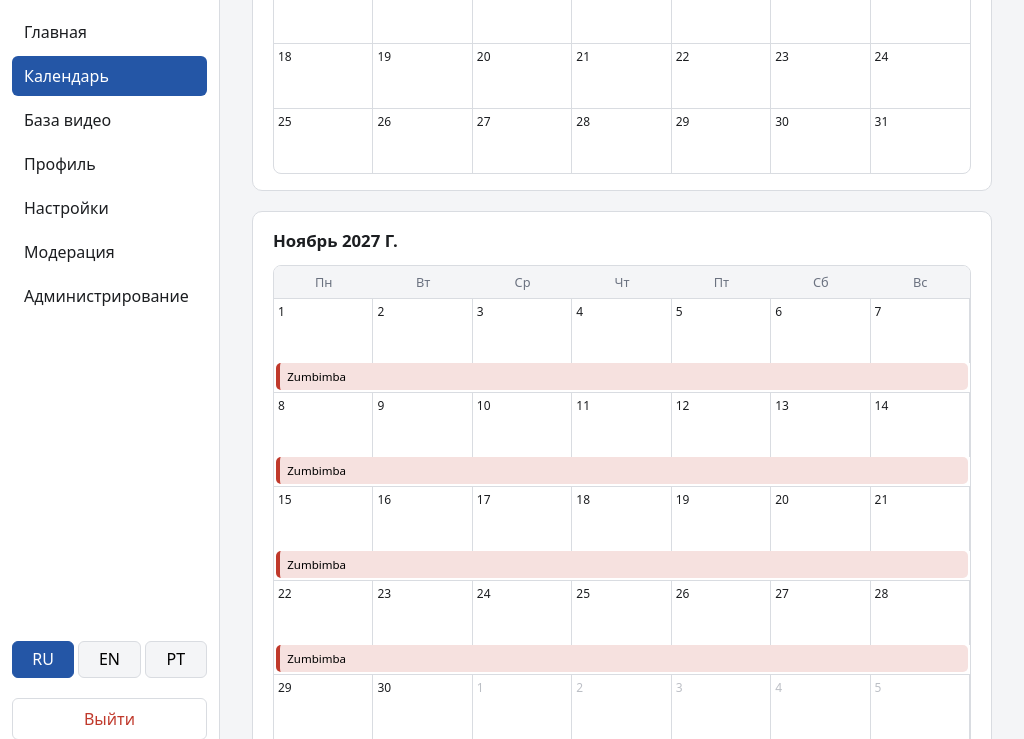
Test: Calendar page › shows the guest list at the top of the event popup
The image size is (1024, 739).
(page scrolled)
Click the 1st button "Zumbimba" at (317, 376), box [276,363,968,390]
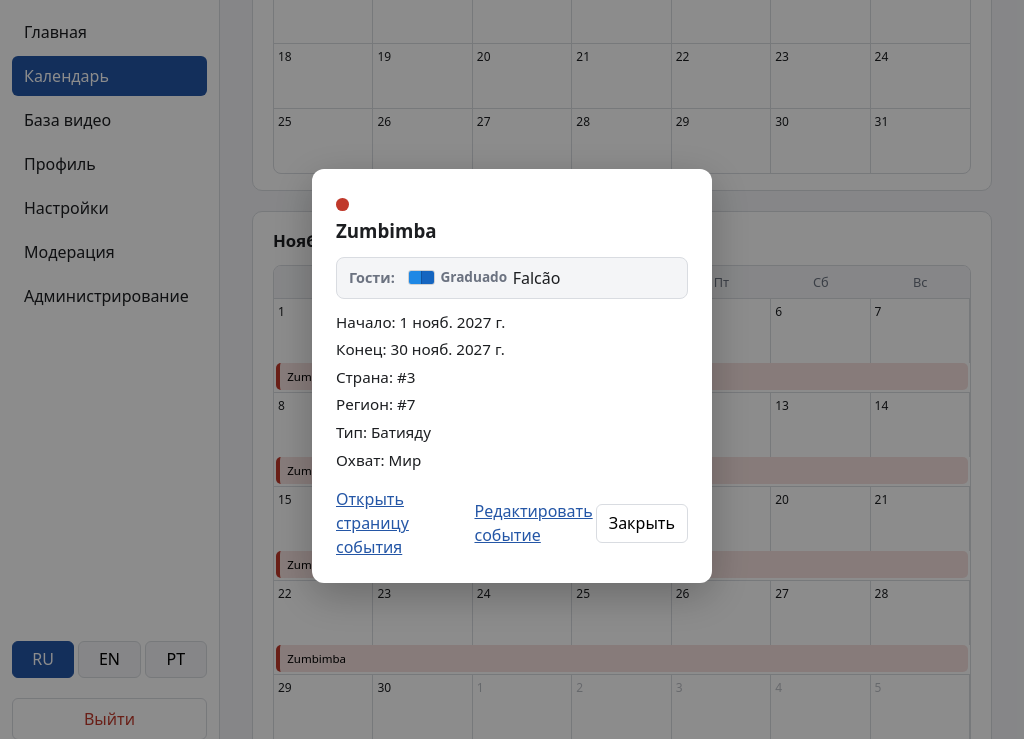
expect the text "Гости:" is shown: met, box [349,267,395,288]
expect the text "Graduado" is shown: met, box [440,268,507,288]
expect the text "Falcão" is shown: met, box [513,266,560,290]
